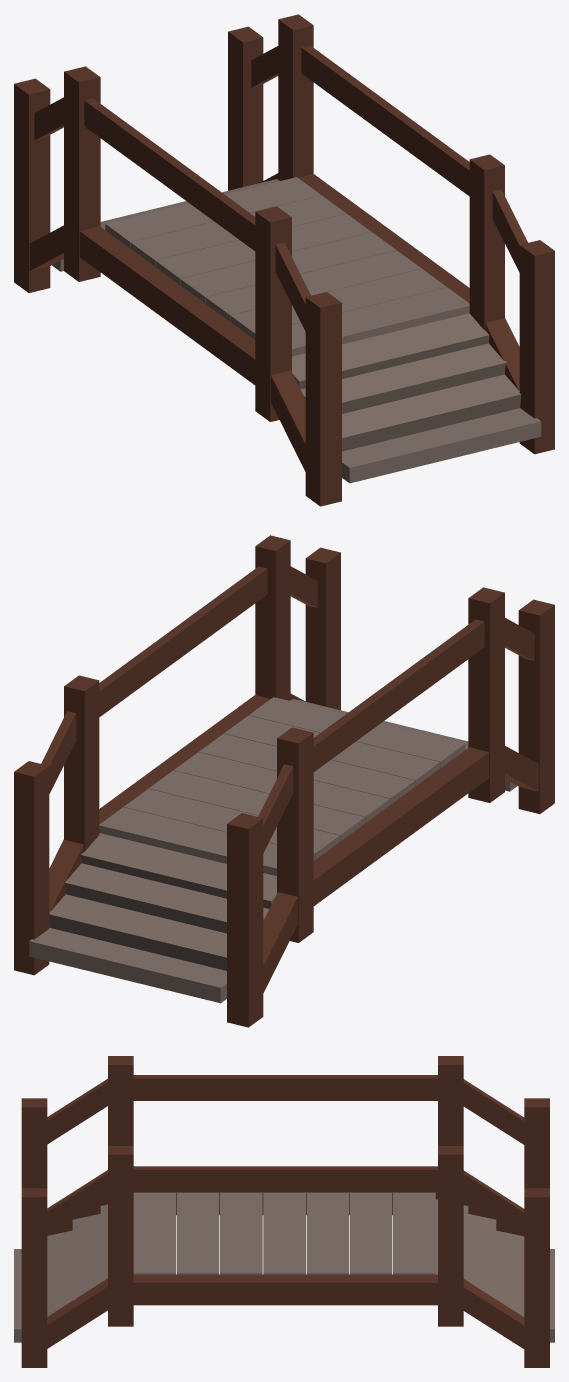
The model's file is Bridge.glb.
The picture shows the model from 3 angles, top to bottom: view 1: azimuth 30°, elevation 25°; view 2: azimuth 150°, elevation 25°; view 3: azimuth 270°, elevation 25°; orthographic projection. The views are drawn at different scales.
Visible parts, largest first — view 1: Box002, Box013, Box030, Box015, Box016, Box032, Box033, Box014, Box011, Box008, Box017, Box031 (+18 smaller); view 2: Box002, Box032, Box034, Box028, Box029, Box013, Box014, Box033, Box011, Box008, Box027, Box035 (+18 smaller); view 3: Box005, Box008, Box011, Box030, Box034, Box031, Box035, Box019, Box024, Box021, Box022, Box025 (+23 smaller).
Boxes of the visible parts, x1=… form: Box002: x1=79, y1=226, x2=255, y2=384; Box013: x1=305, y1=292, x2=341, y2=506; Box030: x1=519, y1=240, x2=554, y2=454; Box015: x1=342, y1=408, x2=541, y2=483; Box016: x1=342, y1=374, x2=521, y2=451; Box032: x1=14, y1=78, x2=50, y2=292; Box033: x1=64, y1=66, x2=100, y2=281; Box014: x1=255, y1=206, x2=291, y2=421; Box011: x1=84, y1=98, x2=255, y2=250; Box008: x1=301, y1=45, x2=469, y2=196; Box017: x1=300, y1=343, x2=507, y2=413; Box031: x1=469, y1=154, x2=504, y2=330; Box002: x1=313, y1=747, x2=489, y2=905; Box032: x1=227, y1=813, x2=263, y2=1027; Box034: x1=14, y1=761, x2=49, y2=975; Box028: x1=49, y1=894, x2=226, y2=970; Box029: x1=29, y1=927, x2=226, y2=1003; Box013: x1=518, y1=599, x2=554, y2=813; Box014: x1=468, y1=587, x2=504, y2=802; Box033: x1=277, y1=727, x2=313, y2=942; Box011: x1=313, y1=619, x2=484, y2=771; Box008: x1=99, y1=566, x2=267, y2=717; Box027: x1=65, y1=863, x2=269, y2=933; Box035: x1=64, y1=675, x2=99, y2=851; Box005: x1=113, y1=1274, x2=457, y2=1305; Box008: x1=133, y1=1166, x2=437, y2=1192; Box011: x1=133, y1=1075, x2=437, y2=1100; Box030: x1=21, y1=1188, x2=47, y2=1367; Box034: x1=524, y1=1188, x2=549, y2=1367; Box031: x1=108, y1=1146, x2=133, y2=1326; Box035: x1=438, y1=1146, x2=463, y2=1326; Box019: x1=133, y1=1192, x2=176, y2=1275; Box024: x1=349, y1=1192, x2=392, y2=1275; Box021: x1=220, y1=1192, x2=262, y2=1275; Box022: x1=263, y1=1192, x2=305, y2=1275; Box025: x1=393, y1=1192, x2=435, y2=1275.
Size of the model in its own units: 28.02 by 28.2 by 64.82.
